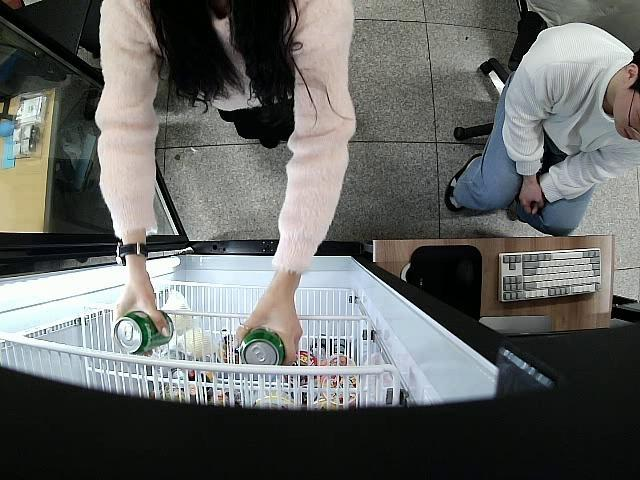12_chilsungCider: (114, 310, 174, 354), (239, 330, 286, 376)
